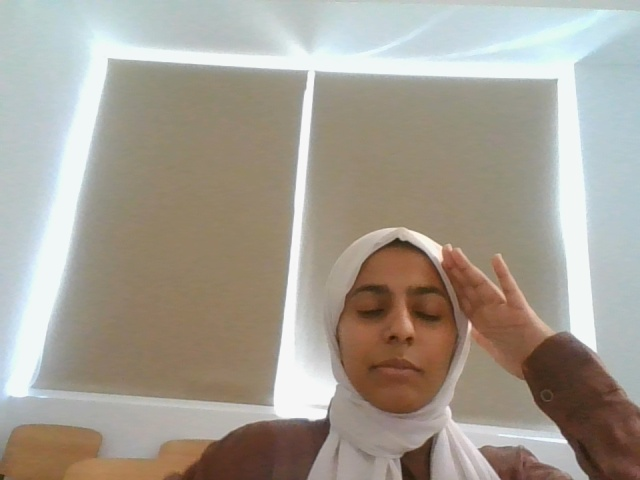hello: (434, 239, 559, 378)
